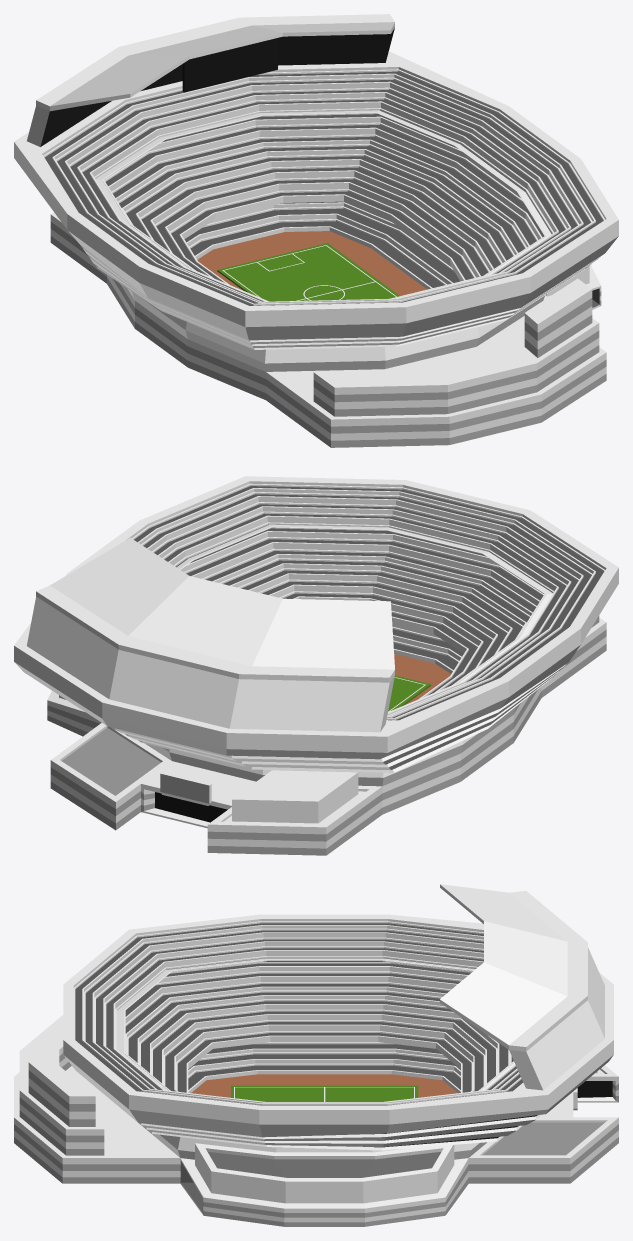
Rendered from Stadion.gltf.
The picture shows the model from 3 angles, top to bottom: view 1: azimuth 30°, elevation 25°; view 2: azimuth 150°, elevation 25°; view 3: azimuth 270°, elevation 25°; orthographic projection. The views are drawn at different scales.
Parts seen in each view (by area): view 1: Cube.; view 2: Cube.; view 3: Cube..
Part boxes in pixels (x1=…): Cube.: x1=14, y1=14, x2=618, y2=447; Cube.: x1=14, y1=476, x2=618, y2=855; Cube.: x1=14, y1=884, x2=618, y2=1226.
Bounding box in the file's own units: 3.31 × 1.39 × 4.2.
Materials: 1 (1 with a texture image).
